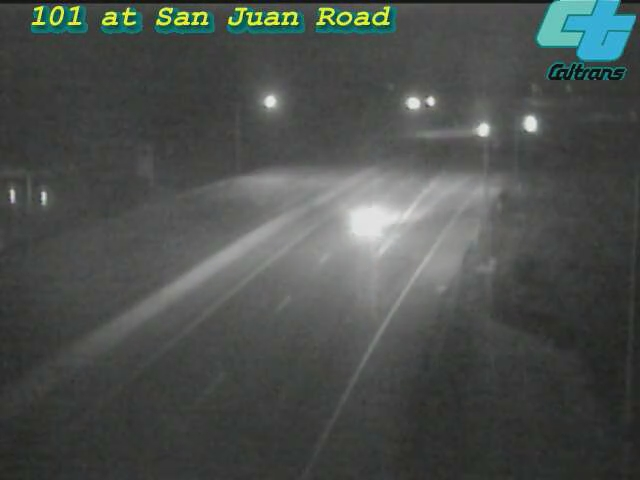vehicle: (328, 180, 408, 260), (453, 104, 503, 154), (504, 99, 554, 149)
